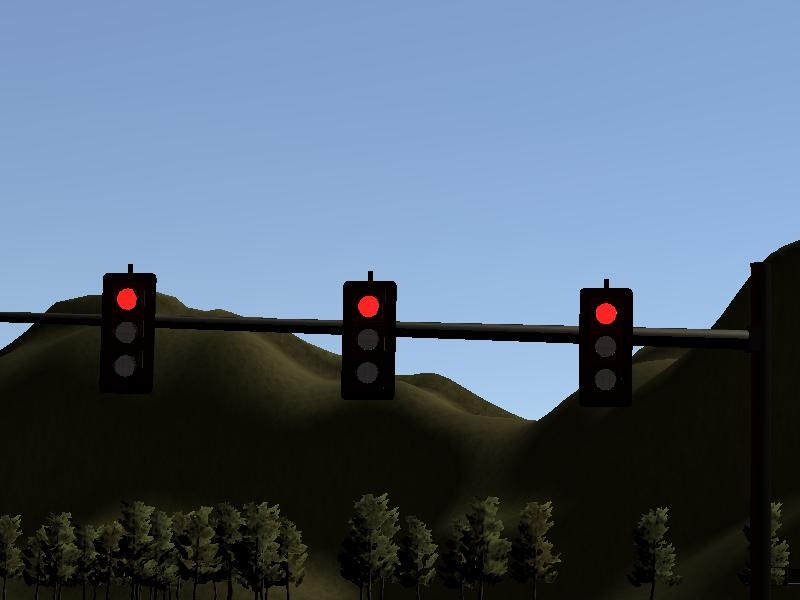RED: (578, 286, 632, 407), (343, 280, 396, 402), (101, 273, 155, 389)
